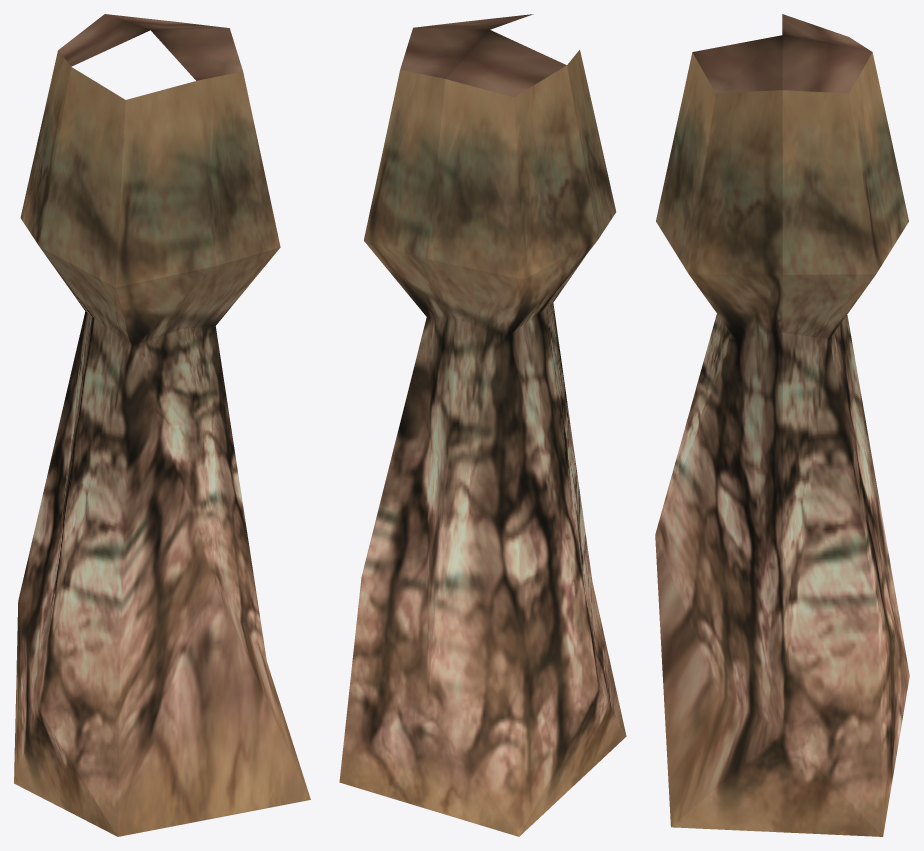
The model's file is landmark04.glb.
3 views of the same model, side by side, from view 1: azimuth 30°, elevation 25°; view 2: azimuth 150°, elevation 25°; view 3: azimuth 270°, elevation 25° (orthographic). The views are drawn at different scales.
Parts seen in each view (by area): view 1: landmark04; view 2: landmark04; view 3: landmark04.
Boxes of the visible parts, x1,y1,x2,y2 form: landmark04: (14, 14, 310, 836); landmark04: (339, 14, 626, 836); landmark04: (655, 14, 909, 836).
Size of the model in its own units: 787 by 2595 by 787.
Materials: 2 (2 with a texture image).
